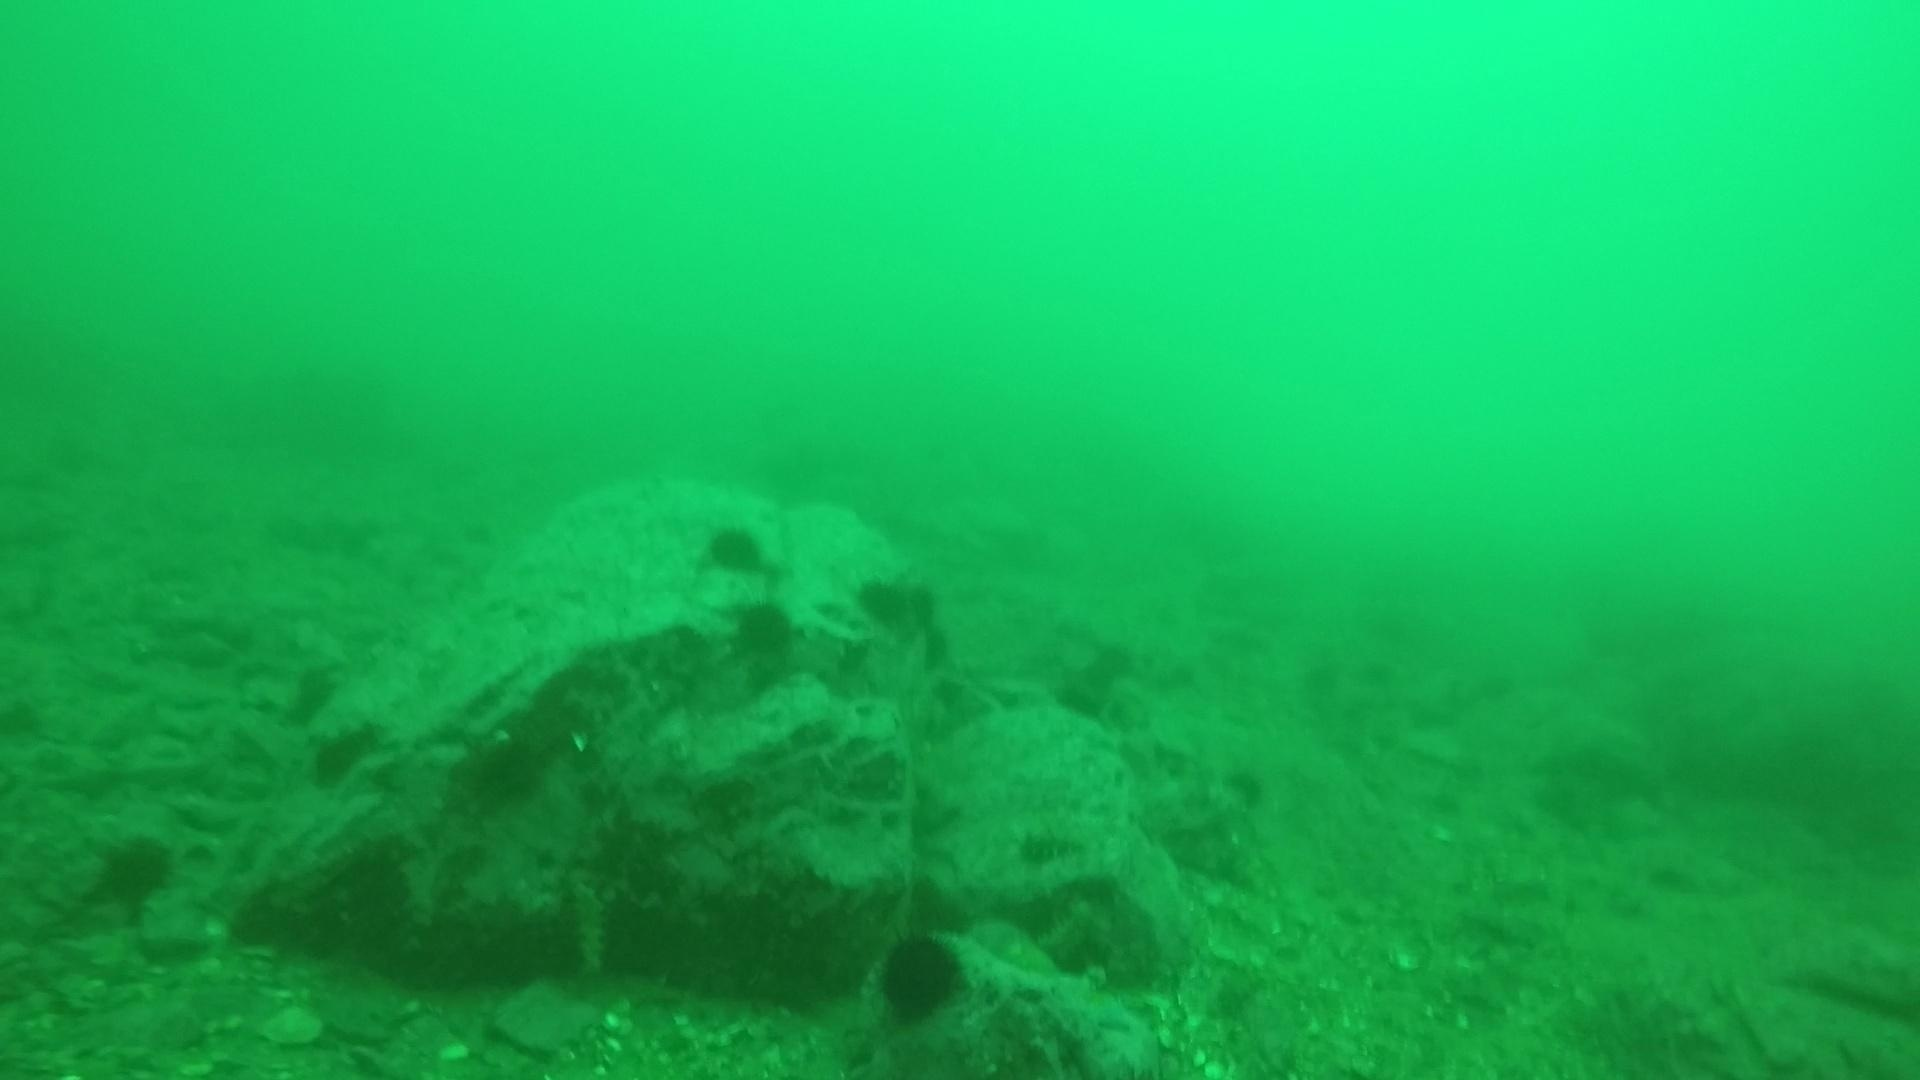echinus: (870, 927, 971, 1029), (88, 828, 182, 914), (723, 593, 804, 674), (698, 517, 773, 582), (851, 564, 914, 626), (311, 719, 375, 781), (1051, 674, 1114, 736), (1217, 757, 1280, 819)
holothurian: (567, 885, 621, 980), (1015, 820, 1087, 872)
